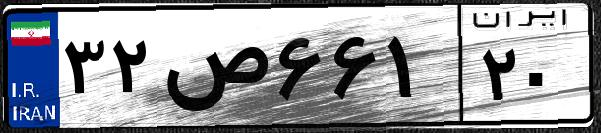0: (525, 38, 570, 115)
1: (385, 28, 445, 110)
2: (475, 38, 525, 113), (110, 28, 158, 98)
3: (57, 26, 110, 100)
6: (270, 28, 330, 110), (330, 28, 385, 110)
ص: (158, 20, 270, 120)
